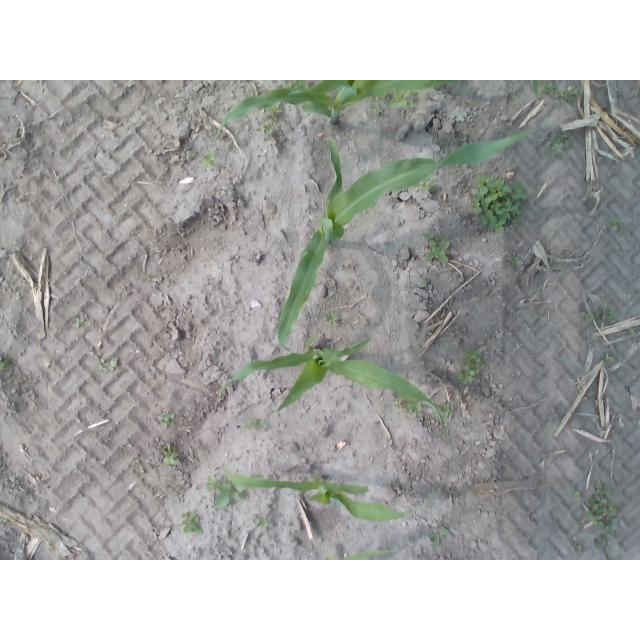Maize: (280, 126, 533, 351), (224, 338, 445, 429), (216, 80, 461, 138), (226, 470, 404, 522), (326, 545, 399, 560), (533, 80, 539, 100)
Weeds: (471, 176, 529, 232), (588, 484, 618, 529), (543, 82, 580, 102), (424, 234, 449, 263), (206, 478, 226, 510), (552, 131, 573, 152), (182, 511, 202, 533), (459, 366, 480, 386), (430, 530, 450, 546), (598, 306, 615, 324), (163, 445, 177, 465), (393, 90, 410, 106), (158, 413, 176, 428), (199, 151, 217, 165), (98, 359, 118, 371), (582, 310, 597, 326), (467, 353, 482, 368), (247, 418, 265, 430), (253, 513, 267, 528), (396, 405, 415, 415), (326, 311, 339, 325), (597, 537, 608, 548), (0, 357, 8, 372), (270, 106, 283, 115), (75, 317, 86, 327), (442, 403, 450, 416), (263, 125, 273, 135), (573, 543, 583, 553), (374, 104, 383, 114), (417, 278, 427, 287), (611, 220, 621, 229), (421, 180, 431, 188), (512, 258, 523, 265), (606, 354, 615, 362), (575, 491, 582, 501), (628, 327, 636, 334)
